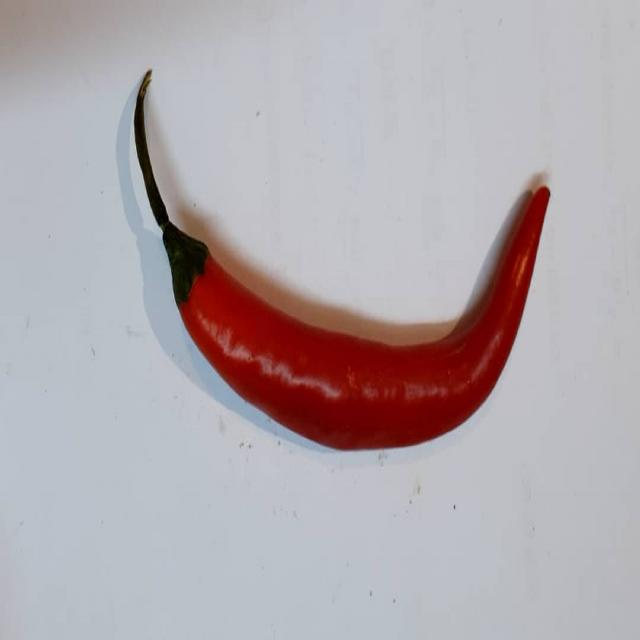red chili: (133, 67, 552, 456)
